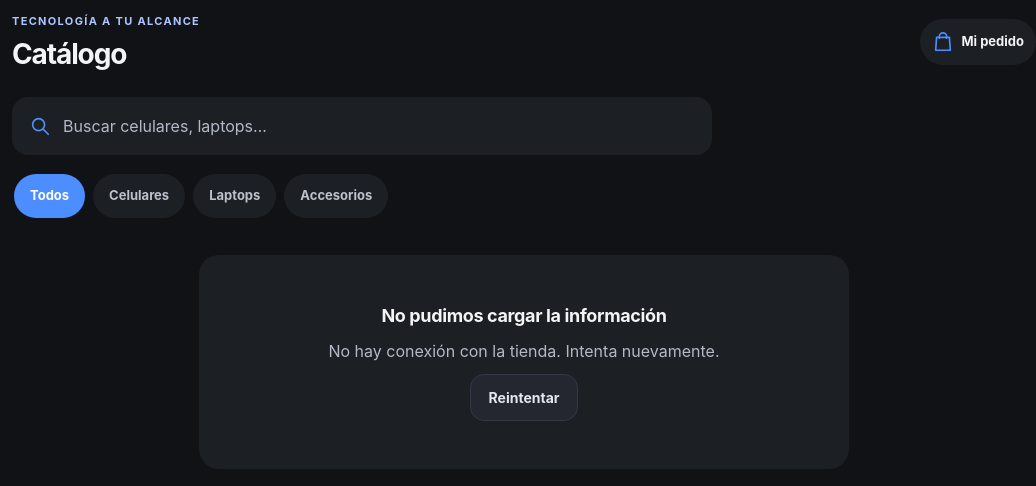
Test: separa catálogo vacío de error con reintento
Click the button "Reintentar": (524, 398) [470, 374, 578, 421]
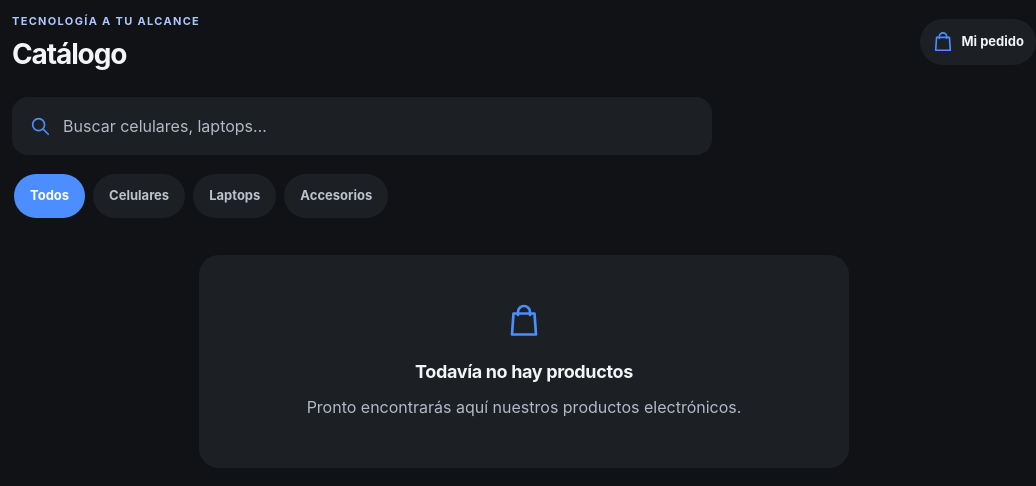
expect the heading "Todavía no hay productos" is shown: met, box [415, 361, 633, 382]
